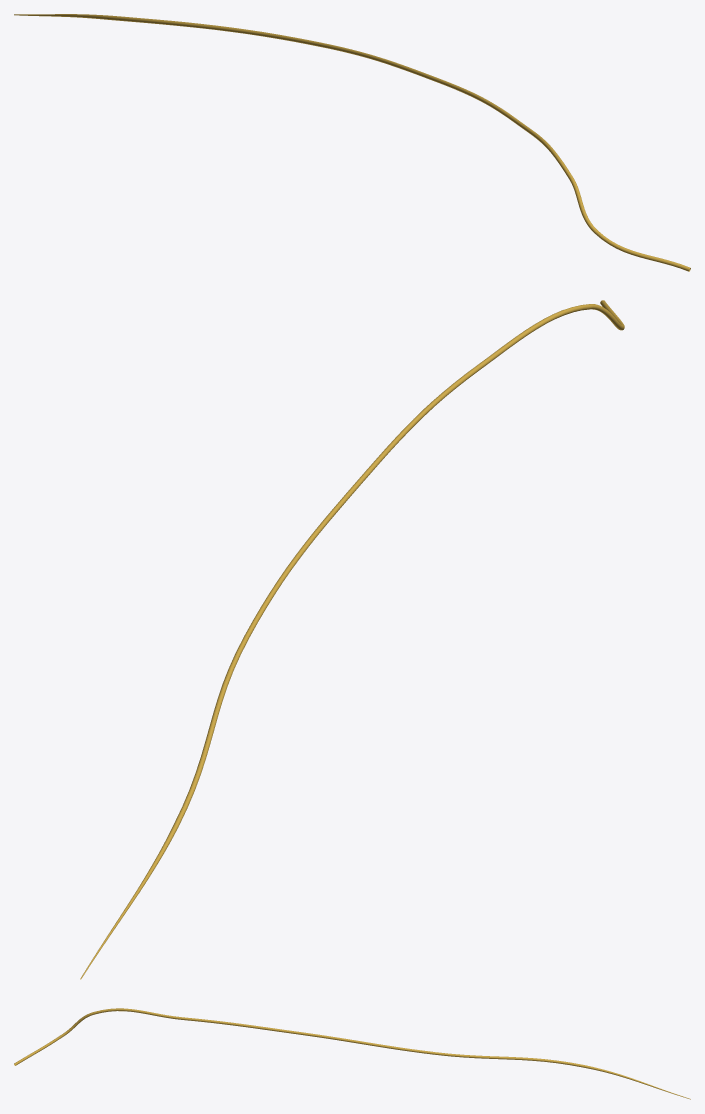
The picture shows the model from 3 angles, top to bottom: view 1: azimuth 30°, elevation 25°; view 2: azimuth 150°, elevation 25°; view 3: azimuth 270°, elevation 25°; orthographic projection. The views are drawn at different scales.
Visible parts, largest first — view 1: 右侧桡神经深支; view 2: 右侧桡神经深支; view 3: 右侧桡神经深支.
Boxes of the visible parts, bbox=[...] form: 右侧桡神经深支: bbox=[14, 14, 690, 271]; 右侧桡神经深支: bbox=[80, 300, 624, 979]; 右侧桡神经深支: bbox=[14, 1008, 690, 1099].
Size of the model in its own units: 0.0483 by 0.0674 by 0.3633.
